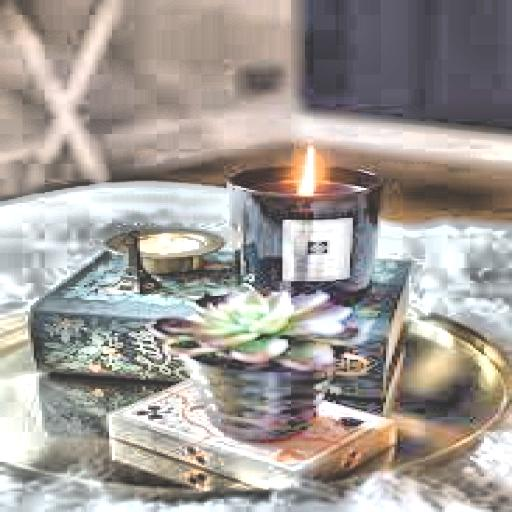fire: (294, 143, 322, 194)
